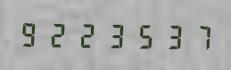five: (129, 20, 156, 50)
nine: (17, 18, 44, 48)
seven: (185, 21, 212, 51)
three: (101, 19, 128, 50), (157, 20, 184, 51)
two: (45, 18, 72, 49), (73, 19, 100, 49)
